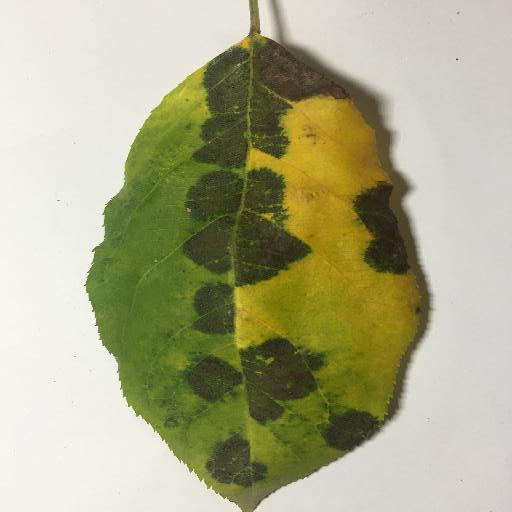Brown_Spot: (249, 42, 352, 111), (360, 178, 417, 272), (238, 346, 315, 406), (252, 220, 304, 270)
